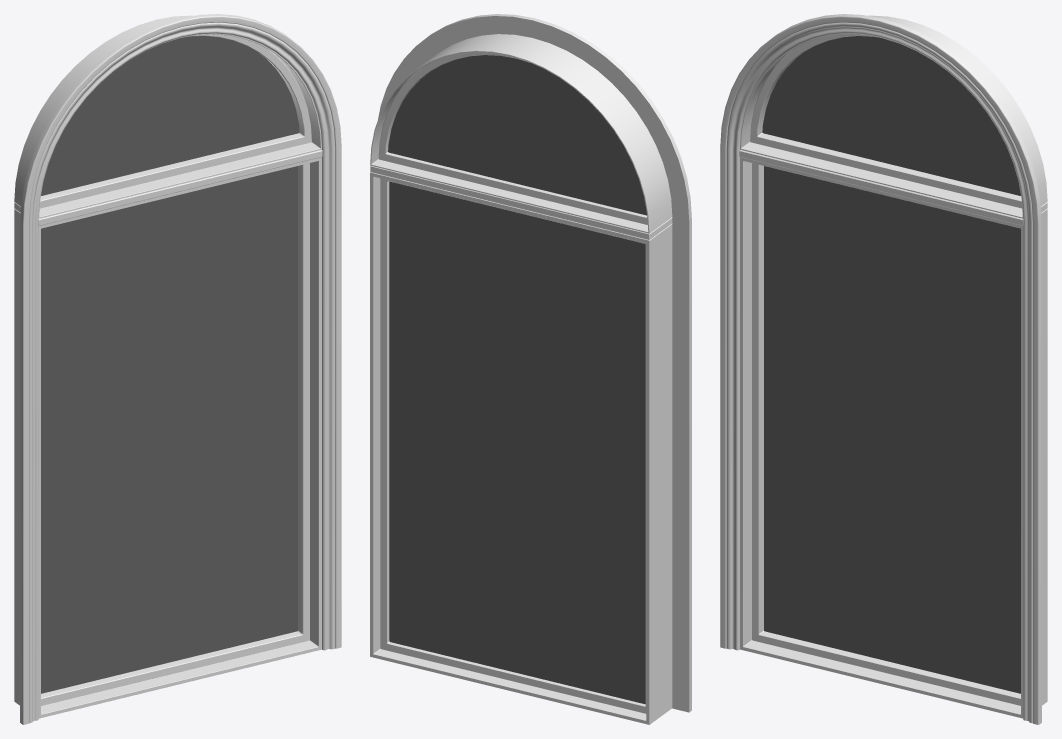
3 renders of one model, left to right at view 1: azimuth 30°, elevation 25°; view 2: azimuth 150°, elevation 25°; view 3: azimuth 330°, elevation 25°, orthographic.
Parts seen in each view (by area): view 1: Object001, Box001; view 2: Object001, Box001; view 3: Object001, Box001.
Part boxes in pixels (<box>): Object001: <box>41,36,299,693</box>; Box001: <box>14,14,341,724</box>; Object001: <box>388,55,646,704</box>; Box001: <box>370,14,691,724</box>; Object001: <box>762,36,1020,693</box>; Box001: <box>720,14,1047,724</box>.
Bounding box in the file's own units: 109 × 217 × 15.55.
Materials: 2 (2 with a texture image).
